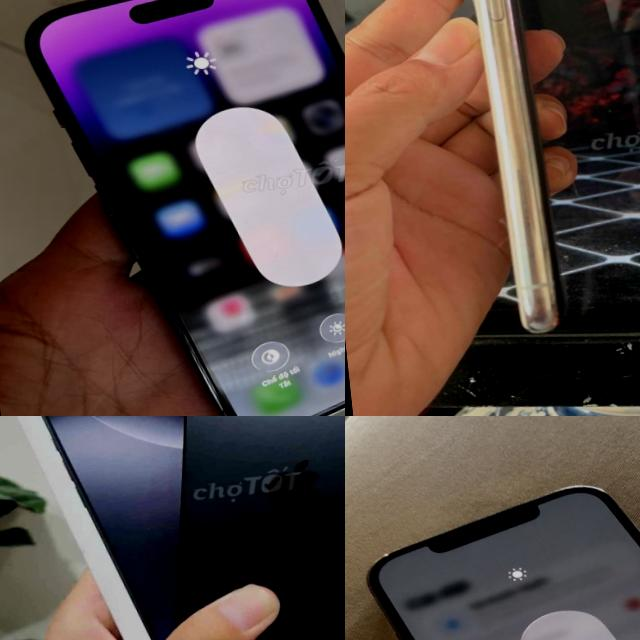scratch: (485, 0, 529, 75)
